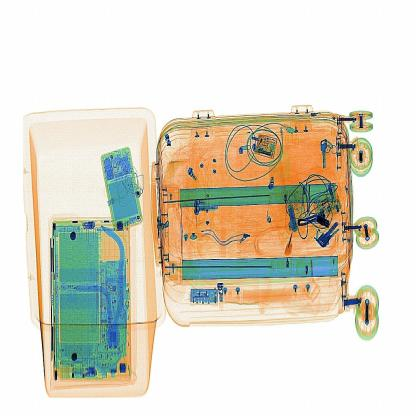wrench: (274, 226, 304, 262)
